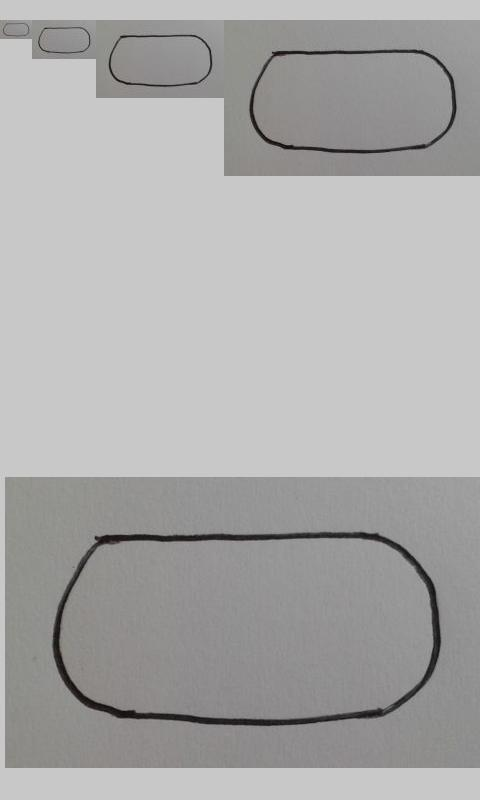chip: (52, 531, 445, 728), (249, 49, 458, 155), (108, 34, 213, 88), (37, 27, 91, 54), (3, 23, 30, 37)
